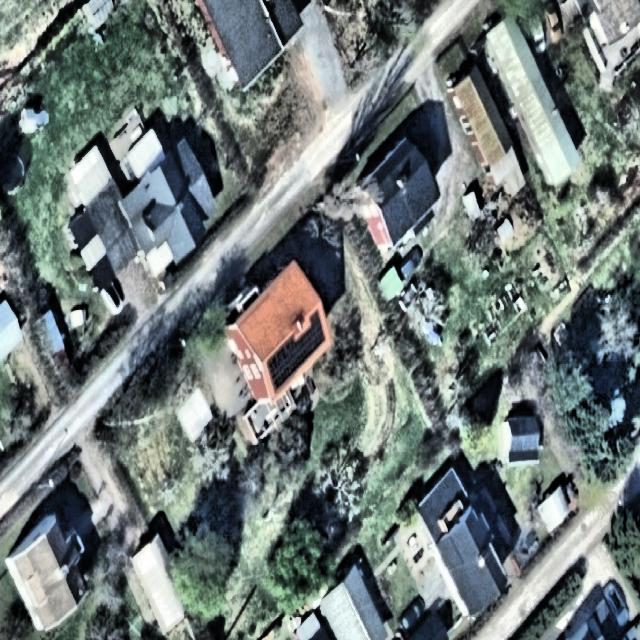roof_pv: (265, 335, 294, 396), (309, 304, 328, 360), (294, 330, 308, 371)
